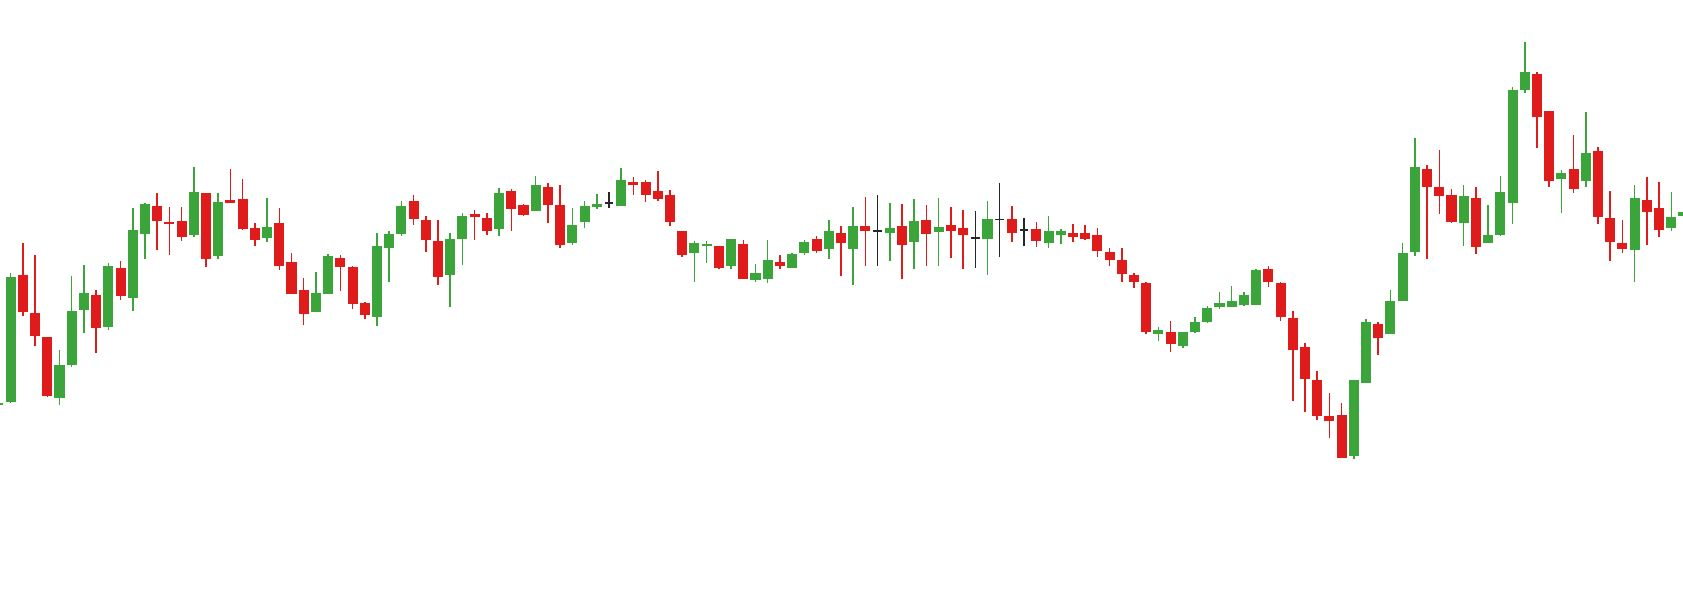sell: (1407, 46, 1557, 218)
